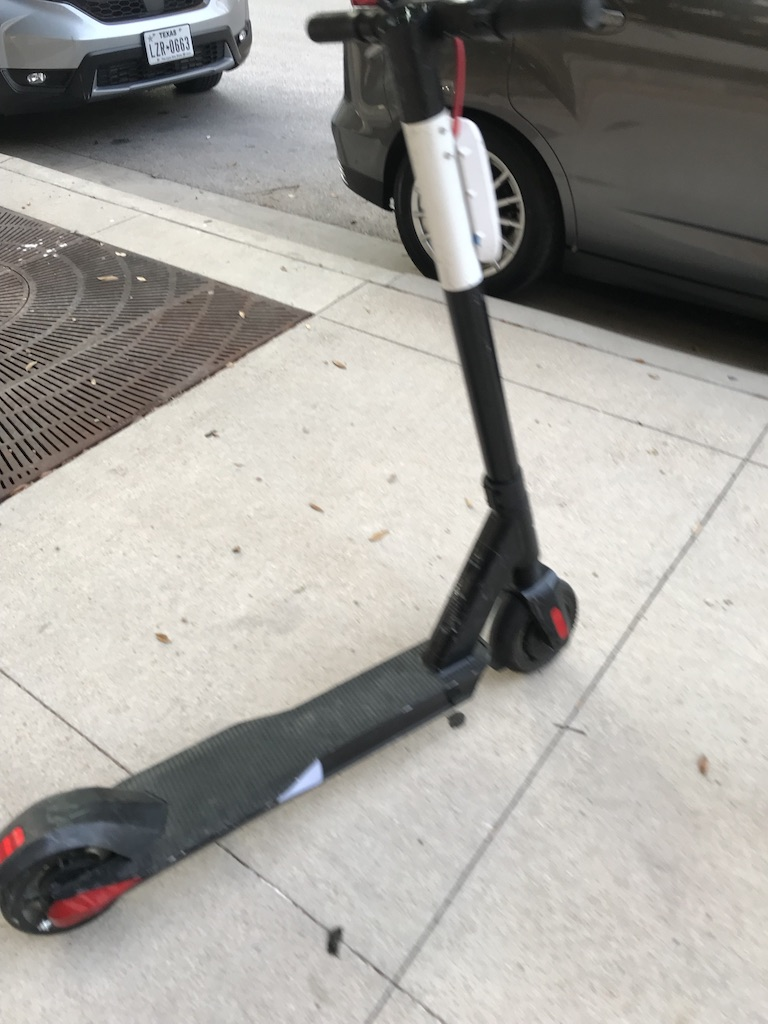scooter: (1, 5, 605, 933)
